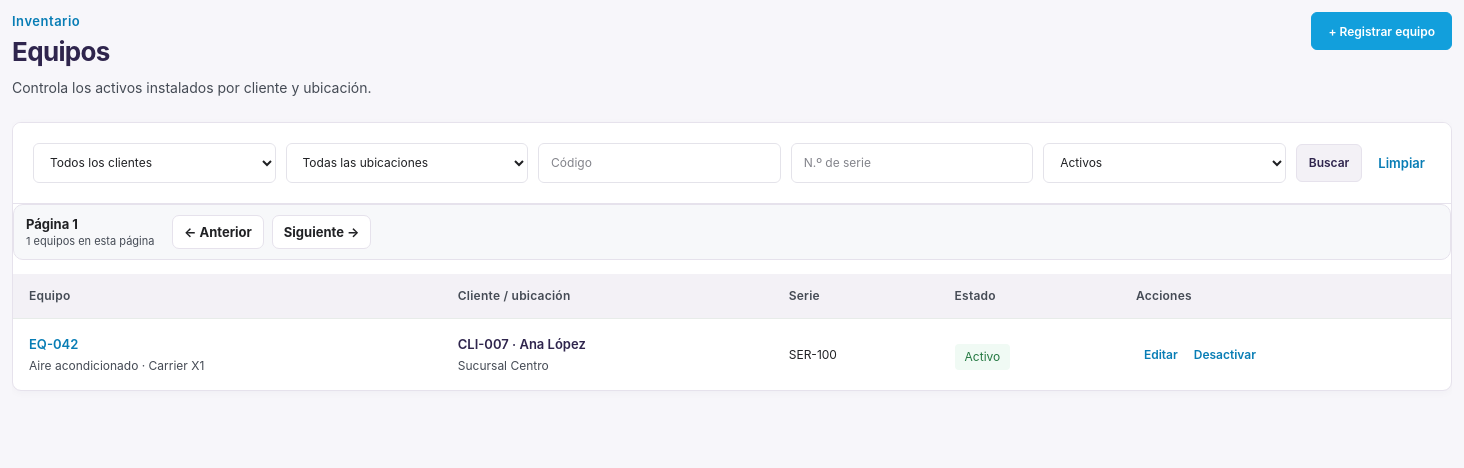
Gestión de Equipos — TK-03 › muestra errores cuando falla el cambio de estado
Expected: the cell "EQ-042 Aire acondicionado · Carrier X1" is shown, [13,319,442,390]
Click the button "Desactivar".
click(1225, 355)  # box [1186,339,1264,371]
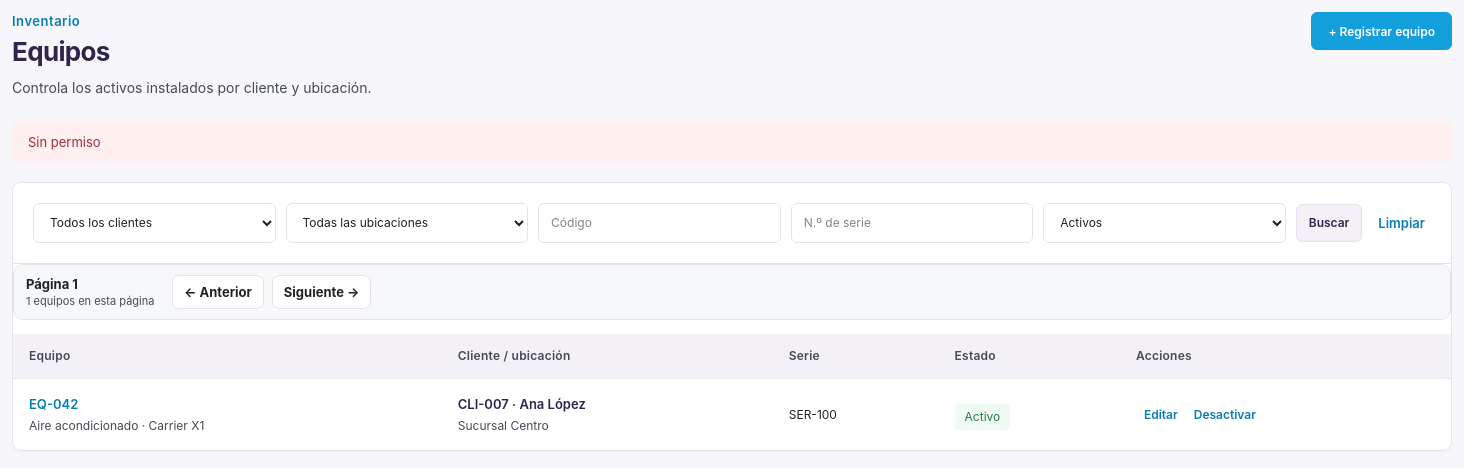
Now the message reads "Sin permiso", box [28,134,101,150]
